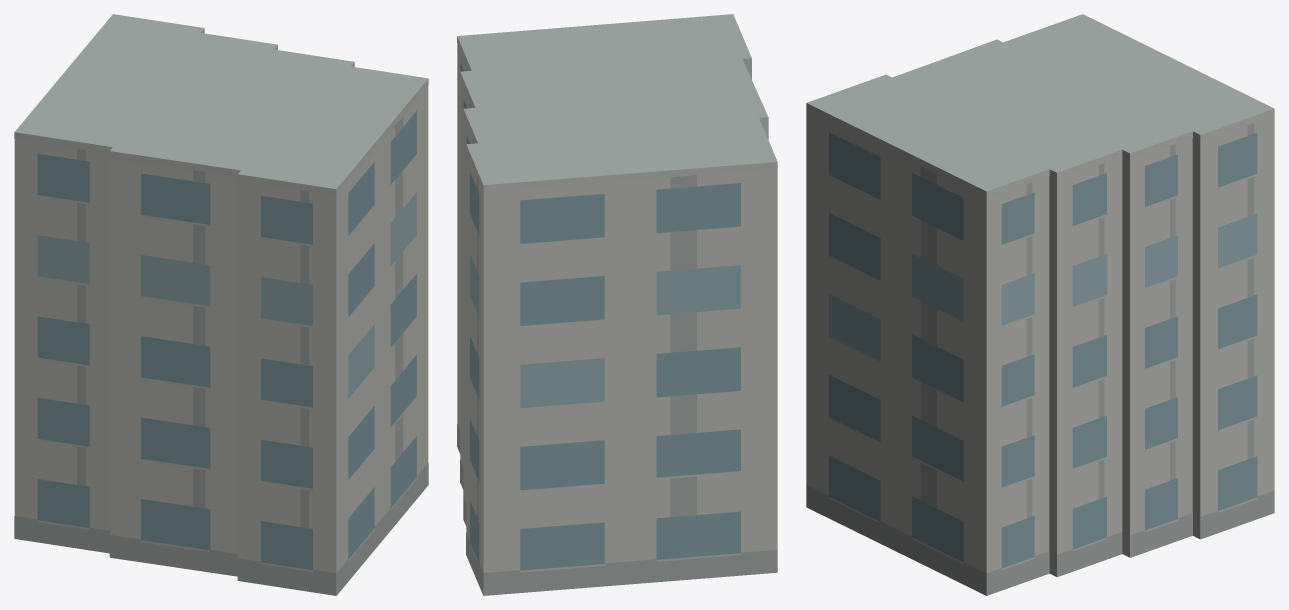
File: survey-upis-32812918.glb
3 renders of one model, left to right at view 1: azimuth 30°, elevation 25°; view 2: azimuth 150°, elevation 25°; view 3: azimuth 270°, elevation 25°, orthographic.
Parts seen in each view (by area): view 1: survey-upis-32812918.tmp; view 2: survey-upis-32812918.tmp; view 3: survey-upis-32812918.tmp.
Boxes of the visible parts, <box> form: survey-upis-32812918.tmp: <box>14,14,428,595</box>; survey-upis-32812918.tmp: <box>457,14,777,595</box>; survey-upis-32812918.tmp: <box>806,14,1274,595</box>.
Size of the model in its own units: 13.51 by 14.35 by 15.06.
